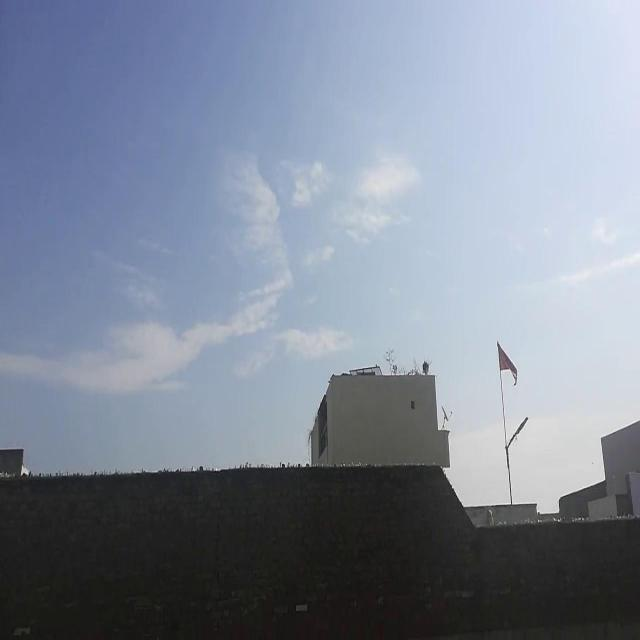other: (491, 328, 524, 394)
